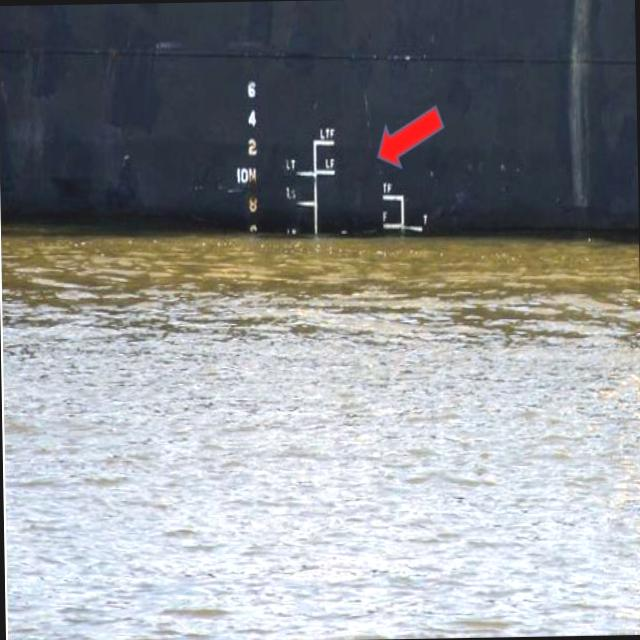Ship Draft Marks: (247, 194, 258, 213), (247, 136, 257, 154), (240, 166, 248, 184), (248, 166, 256, 183), (248, 80, 255, 97), (248, 109, 255, 126), (236, 167, 240, 184)
